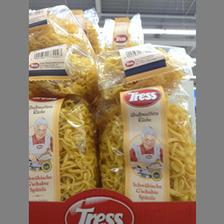Nudeln: (97, 88, 195, 201), (28, 91, 98, 201), (96, 43, 192, 84)
